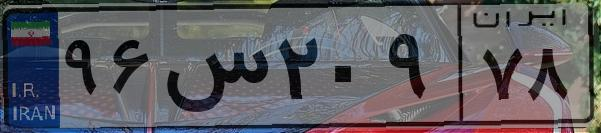0: (330, 28, 385, 110)
2: (270, 28, 330, 110)
6: (110, 28, 158, 98)
7: (475, 38, 525, 113)
8: (525, 38, 570, 115)
9: (385, 28, 445, 110), (57, 26, 110, 100)
س: (158, 20, 270, 120)
